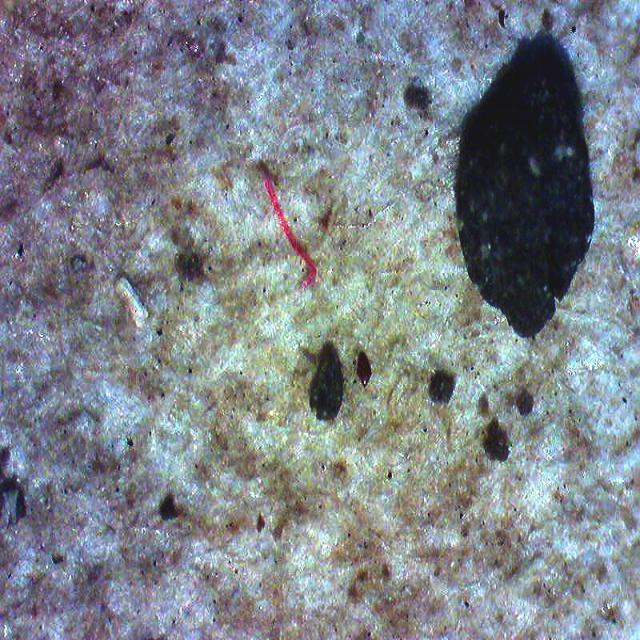microplastic: (264, 174, 317, 290)
